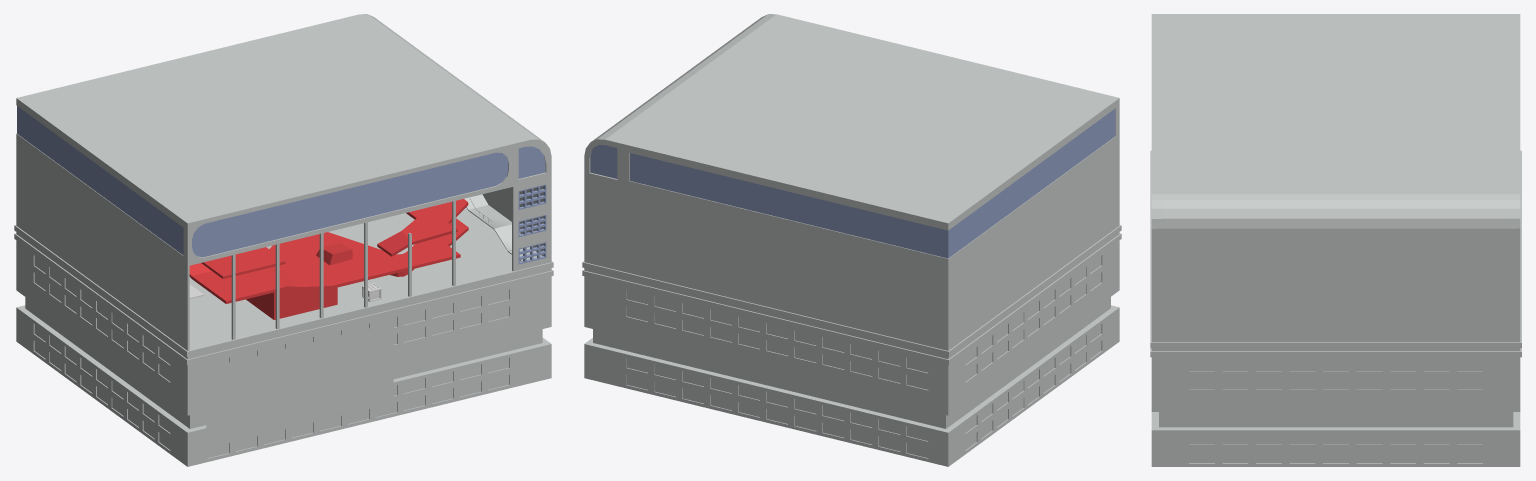
File: MAPA_FINAL.fbx
The picture shows the model from 3 angles, left to right: view 1: azimuth 30°, elevation 25°; view 2: azimuth 150°, elevation 25°; view 3: azimuth 270°, elevation 25°; orthographic projection. The views are drawn at different scales.
Visible parts, largest first — view 1: Paredes, Suelo, Ventanas.001, Cartel.001, Base inicial, Columnas, Ventanas, Escalera, Ventanas.002; view 2: Paredes, Suelo, Ventanas.001, Ventanas.002; view 3: Paredes, Suelo.
Boxes of the visible parts, x1,y1,x2,y2 form: Paredes: [16, 14, 551, 350]; Suelo: [14, 207, 553, 466]; Ventanas.001: [17, 106, 508, 256]; Cartel.001: [206, 322, 393, 442]; Base inicial: [189, 199, 468, 319]; Columnas: [231, 201, 455, 339]; Ventanas: [518, 184, 546, 264]; Escalera: [464, 194, 542, 261]; Ventanas.002: [518, 146, 545, 178]; Paredes: [584, 14, 1119, 350]; Suelo: [582, 225, 1121, 466]; Ventanas.001: [630, 109, 1115, 258]; Ventanas.002: [590, 145, 617, 178]; Paredes: [1151, 14, 1520, 342]; Suelo: [1150, 150, 1521, 466].
Bounding box in the file's own units: 106 × 67.46 × 86.76.
